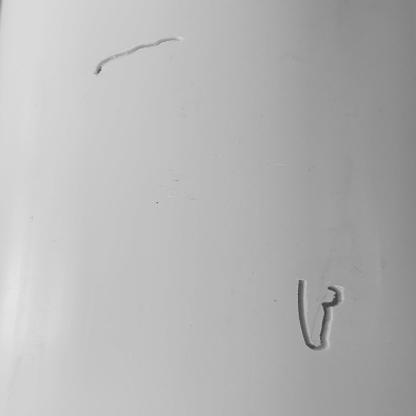fengxi: (297, 276, 345, 353), (93, 37, 180, 77)
